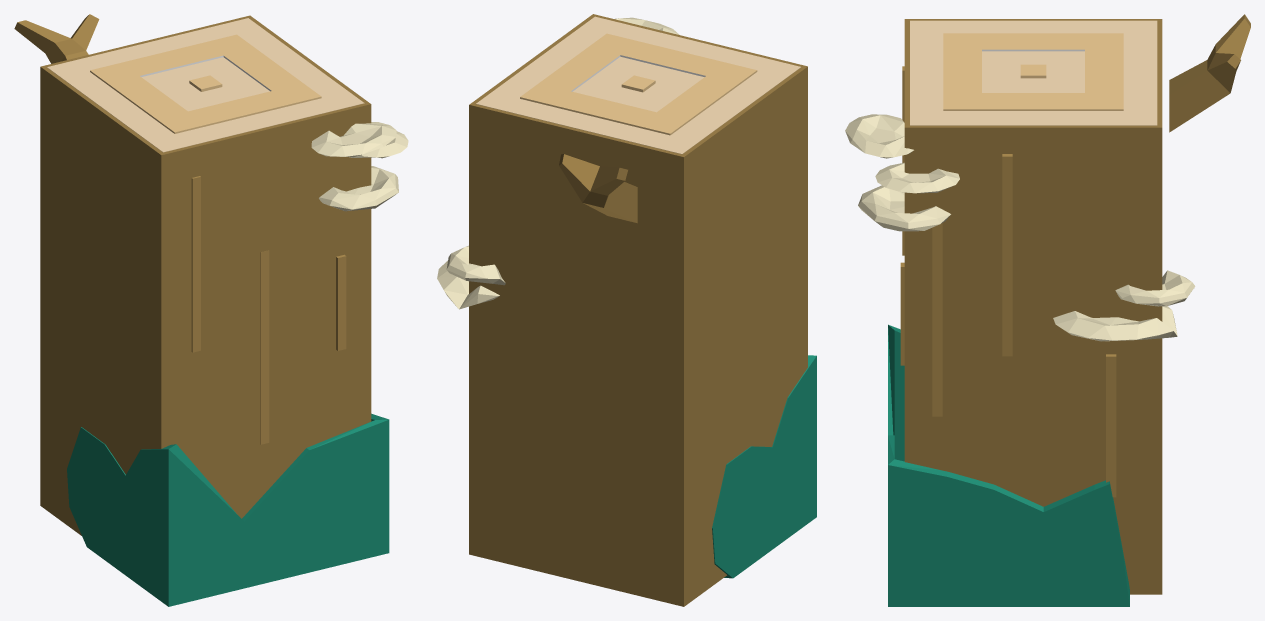
The model's file is trunk3.glb.
The picture shows the model from 3 angles, left to right: view 1: azimuth 30°, elevation 25°; view 2: azimuth 150°, elevation 25°; view 3: azimuth 270°, elevation 25°; orthographic projection. The views are drawn at different scales.
Visible parts, largest first — view 1: Cube_1.002, Cube.049, Cube.050, Cube.3_2.004, Sphere.013, branch.001, Cube.052, Sphere.011, Cube.053, Cube.6_1.002, Sphere.012; view 2: Cube_1.002, Cube.050, Cube.049, Cube.3_2.004, branch.001, Sphere.010, Sphere.009; view 3: Cube_1.002, Cube.049, Cube.050, Cube.3_2.004, branch.001, Sphere.010, Sphere.011, Cube.3_1.004, Sphere.013, Cube.051, Sphere.012, Sphere.009 (+1 smaller).
Part boxes in pixels (x1=…): Cube_1.002: x1=40, y1=15, x2=371, y2=535; Cube.049: x1=67, y1=413, x2=389, y2=606; Cube.050: x1=47, y1=18, x2=364, y2=152; Cube.3_2.004: x1=90, y1=34, x2=321, y2=133; Sphere.013: x1=311, y1=122, x2=396, y2=157; branch.001: x1=14, y1=14, x2=99, y2=63; Cube.052: x1=260, y1=250, x2=269, y2=444; Sphere.011: x1=319, y1=166, x2=398, y2=211; Cube.053: x1=191, y1=176, x2=200, y2=352; Cube.6_1.002: x1=336, y1=254, x2=346, y2=350; Sphere.012: x1=351, y1=131, x2=408, y2=158; Cube_1.002: x1=469, y1=14, x2=807, y2=606; Cube.050: x1=476, y1=16, x2=800, y2=154; Cube.049: x1=712, y1=355, x2=816, y2=578; Cube.3_2.004: x1=520, y1=33, x2=757, y2=135; branch.001: x1=559, y1=154, x2=637, y2=223; Sphere.010: x1=437, y1=260, x2=499, y2=309; Sphere.009: x1=446, y1=245, x2=505, y2=285; Cube_1.002: x1=904, y1=19, x2=1162, y2=594; Cube.049: x1=888, y1=324, x2=1129, y2=606; Cube.050: x1=910, y1=20, x2=1157, y2=125; Cube.3_2.004: x1=943, y1=33, x2=1123, y2=110; branch.001: x1=1169, y1=14, x2=1250, y2=132; Sphere.010: x1=1053, y1=306, x2=1177, y2=341; Sphere.011: x1=858, y1=185, x2=950, y2=231; Cube.3_1.004: x1=1002, y1=154, x2=1012, y2=356; Sphere.013: x1=845, y1=114, x2=913, y2=158; Cube.051: x1=932, y1=223, x2=942, y2=416; Sphere.012: x1=875, y1=162, x2=959, y2=193; Sphere.009: x1=1115, y1=270, x2=1195, y2=306.
Bounding box in the file's own units: 1.8 × 3.09 × 2.34.
